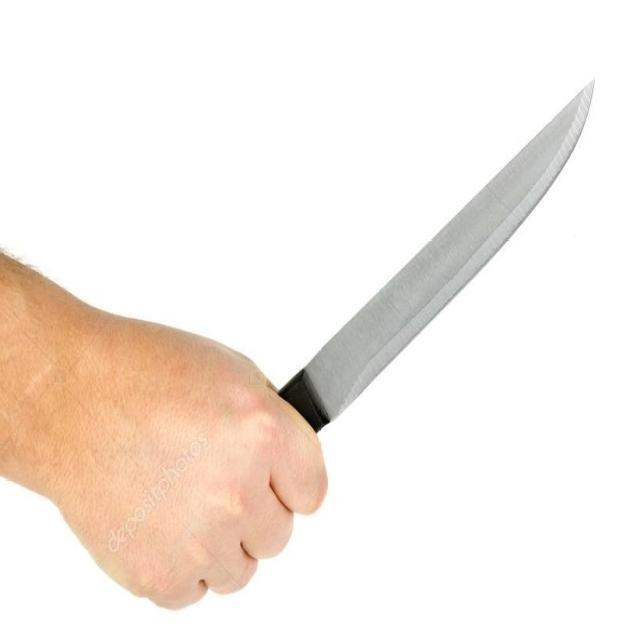knife: (268, 72, 598, 441)
